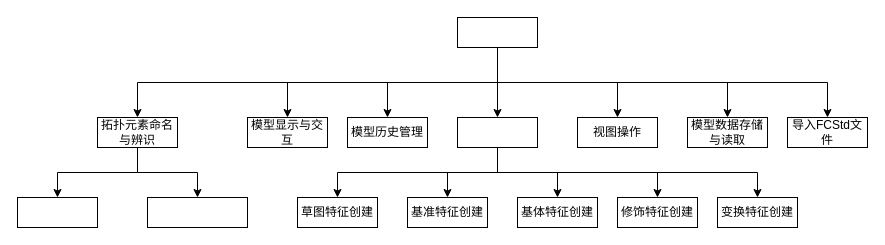
Image size: 885x245. Some labels were removed from this diagram. Each missing label, with the centre of its shape:
原始名命名: the point at 57,212
引用名命名与辨识: the point at 197,212
特征设计: the point at 497,132
特征造型: the point at 497,32
